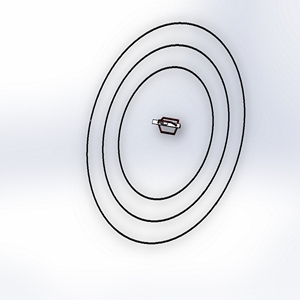circle: (83, 19, 250, 251)
submarine: (149, 109, 186, 147)
